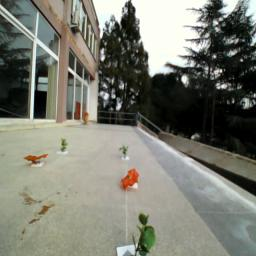herb: (134, 215, 156, 256), (59, 138, 70, 155), (120, 146, 131, 159)
wild: (122, 169, 141, 192), (24, 153, 50, 168)
